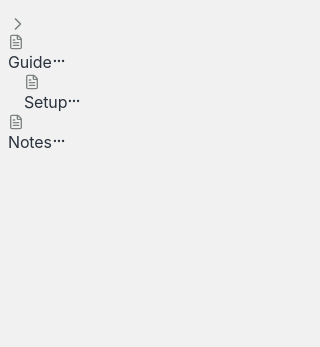
Test: PageTree reordering without a pointer › mounts the move menu content
Expected: the text "Guide" is shown, [8,52,52,72]
Click the button named "Seite „Notes\" verschieben".
click(59, 141)  # box [52,134,66,148]
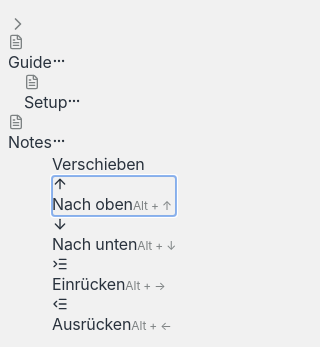
Expected: the text "Verschieben" is shown, [52,154,145,174]
